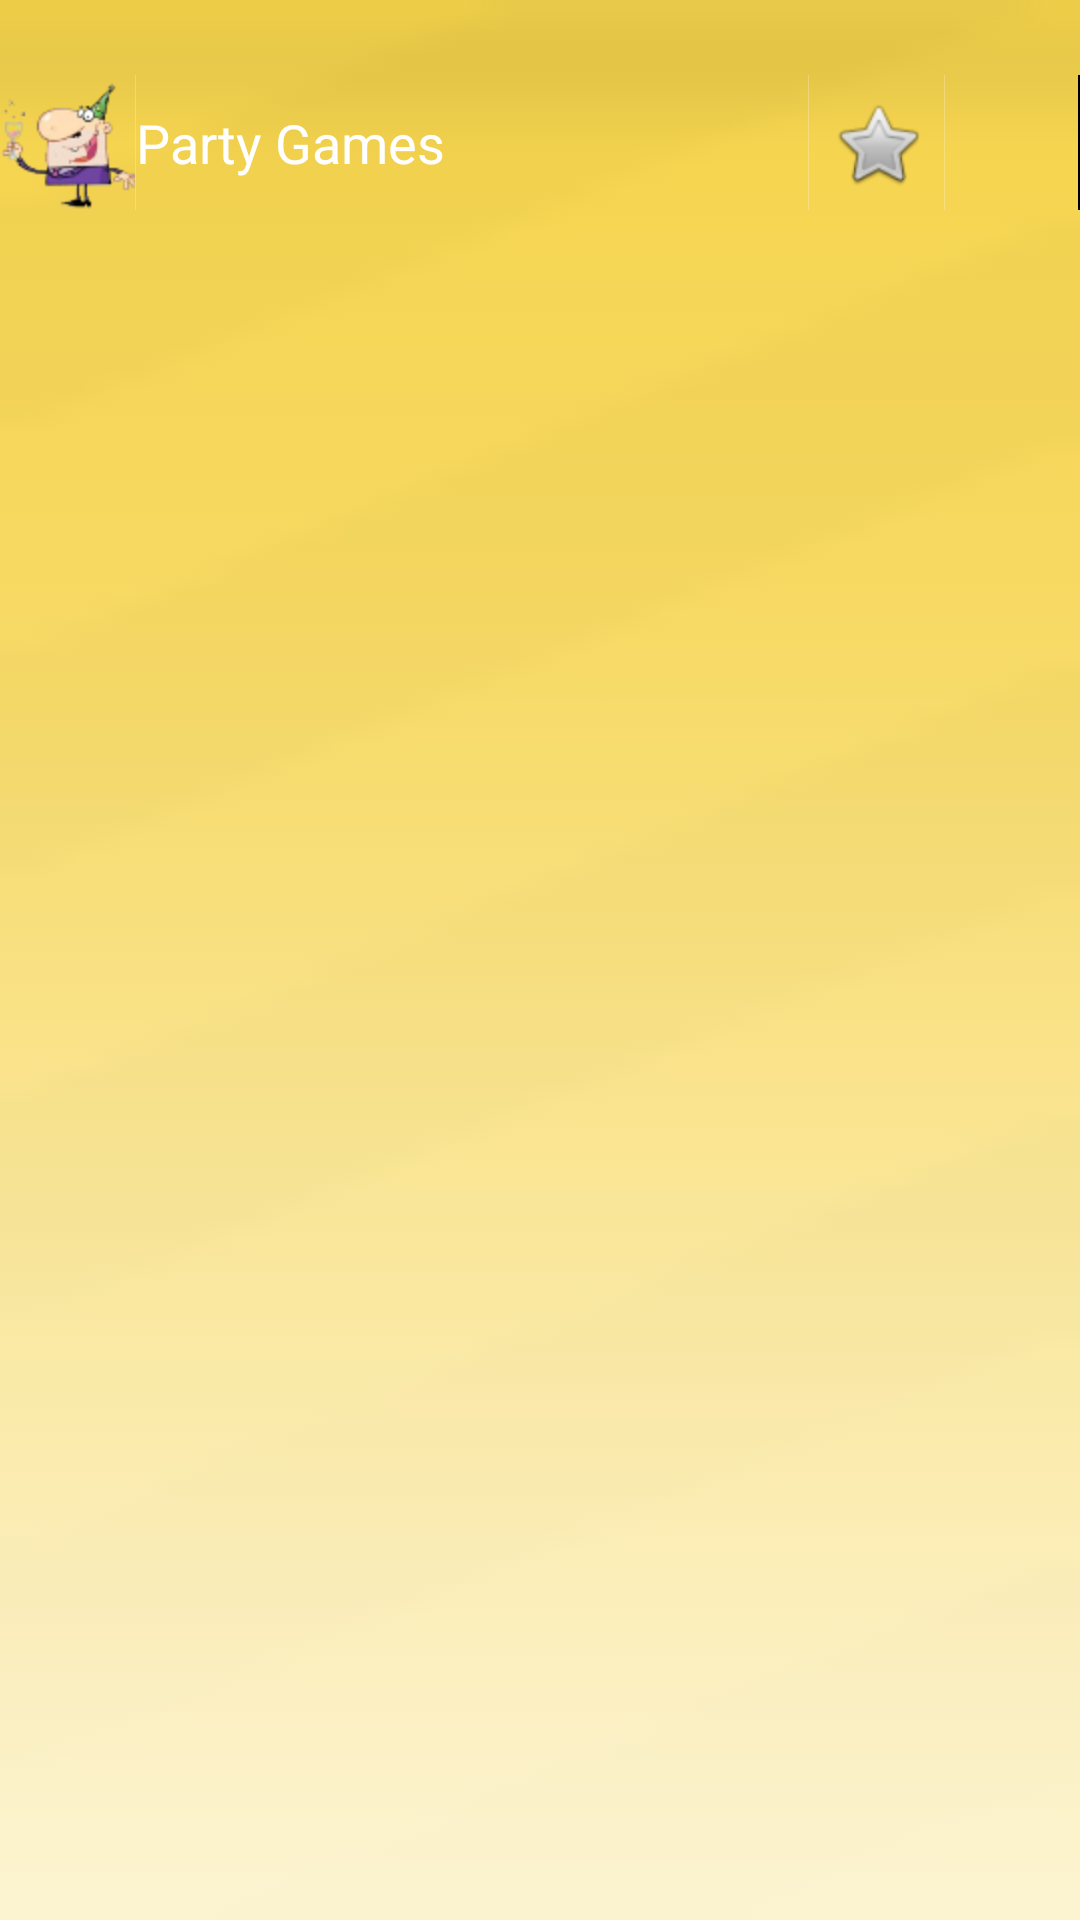

Point at icon controls on the screen. Image size 1080*1920, points as (x,y).
star: (879,144)
